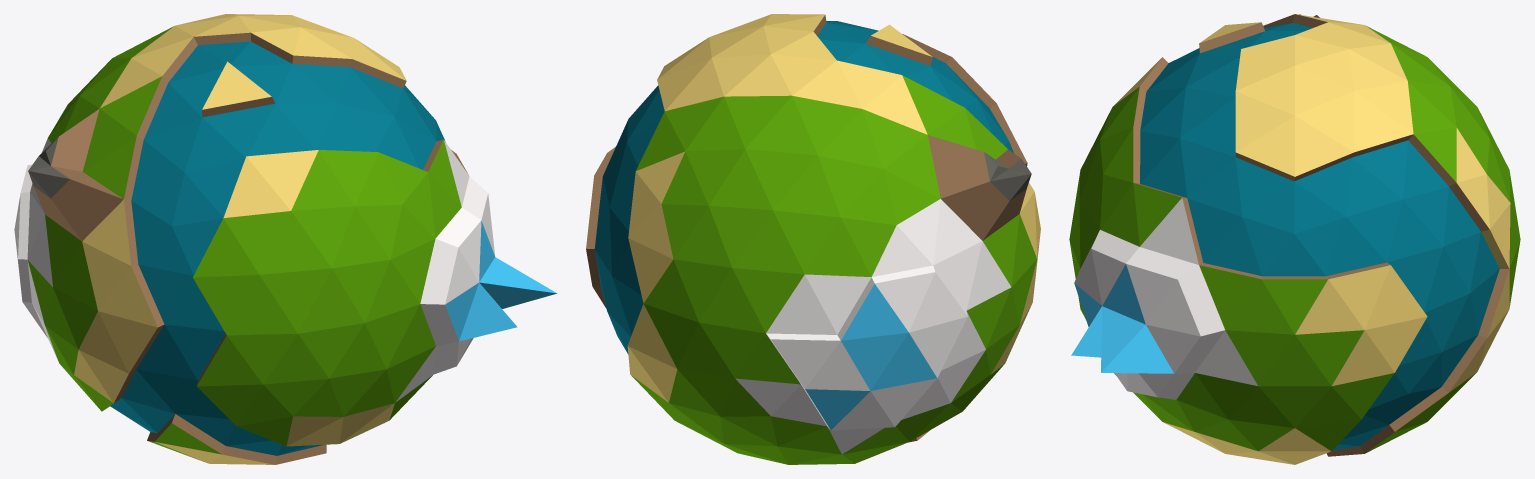
File: planet1.gltf
The picture shows the model from 3 angles, left to right: view 1: azimuth 30°, elevation 25°; view 2: azimuth 150°, elevation 25°; view 3: azimuth 270°, elevation 25°; orthographic projection.
Parts seen in each view (by area): view 1: planet; view 2: planet; view 3: planet.
Part boxes in pixels (box(x1,y1,x2,y2)): planet: box(14, 14, 557, 464); planet: box(586, 14, 1040, 464); planet: box(1069, 14, 1520, 464).
Bounding box in the file's own units: 10.85 × 10 × 10.
